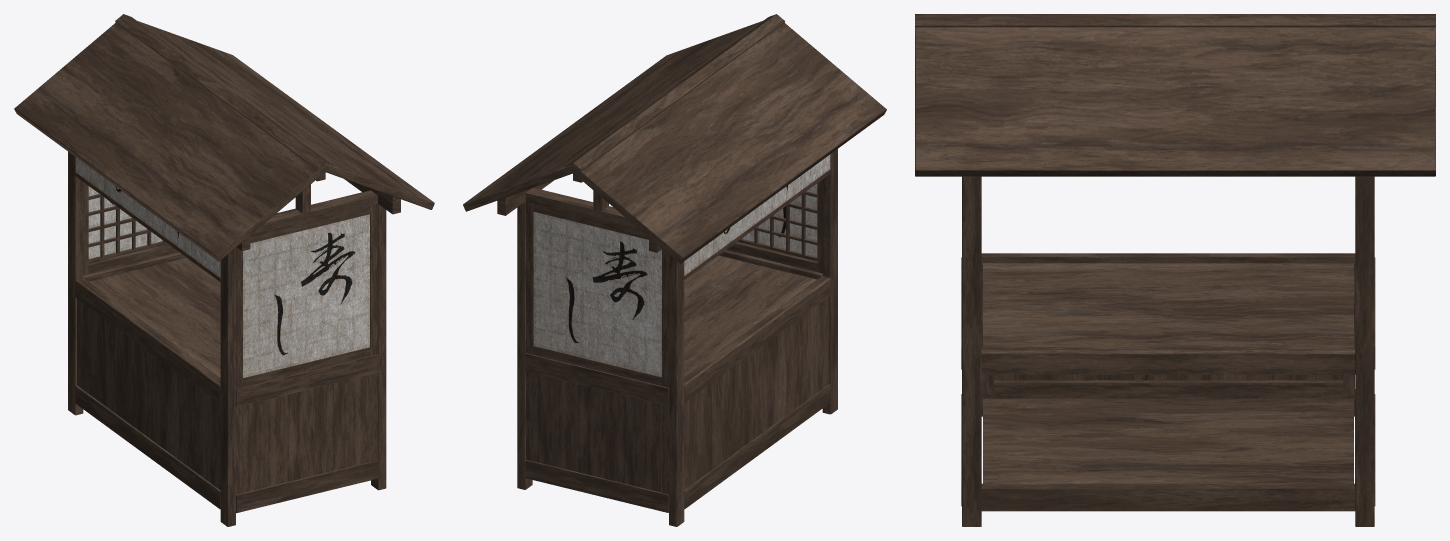
File: yatai.fbx
3 views of the same model, side by side, from view 1: azimuth 30°, elevation 25°; view 2: azimuth 150°, elevation 25°; view 3: azimuth 270°, elevation 25° (orthographic). The views are drawn at different scales.
Visible parts, largest first — view 1: paper; view 2: paper; view 3: paper.
Part boxes in pixels (x1,y1,x2,y2): paper: (14,14,434,526); paper: (463,14,886,526); paper: (915,14,1435,526).
Bounding box in the file's own units: 26.17 × 41.05 × 41.86.
Materials: 2 (2 with a texture image).
